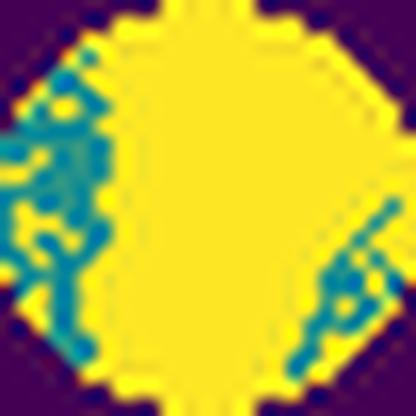Edge-Ring: (69, 0, 416, 416)
